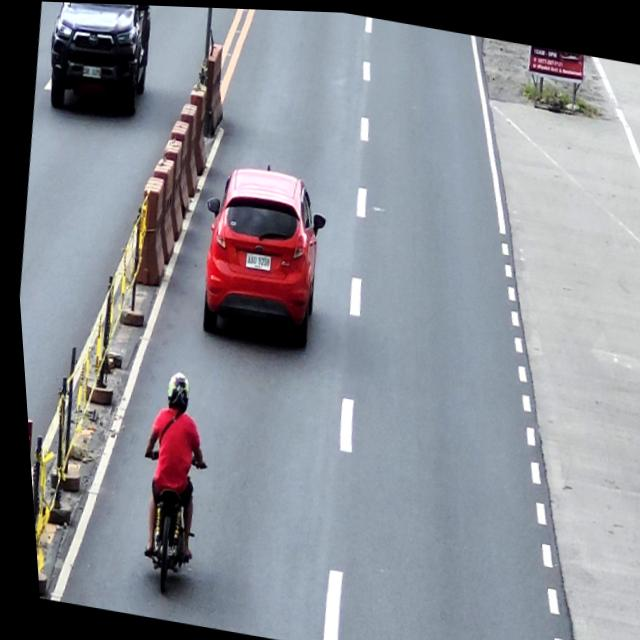Car: (184, 157, 337, 353), (38, 1, 163, 117)
License-Plate: (240, 249, 270, 272), (80, 63, 101, 79)
Motorcycle: (119, 447, 210, 598)
